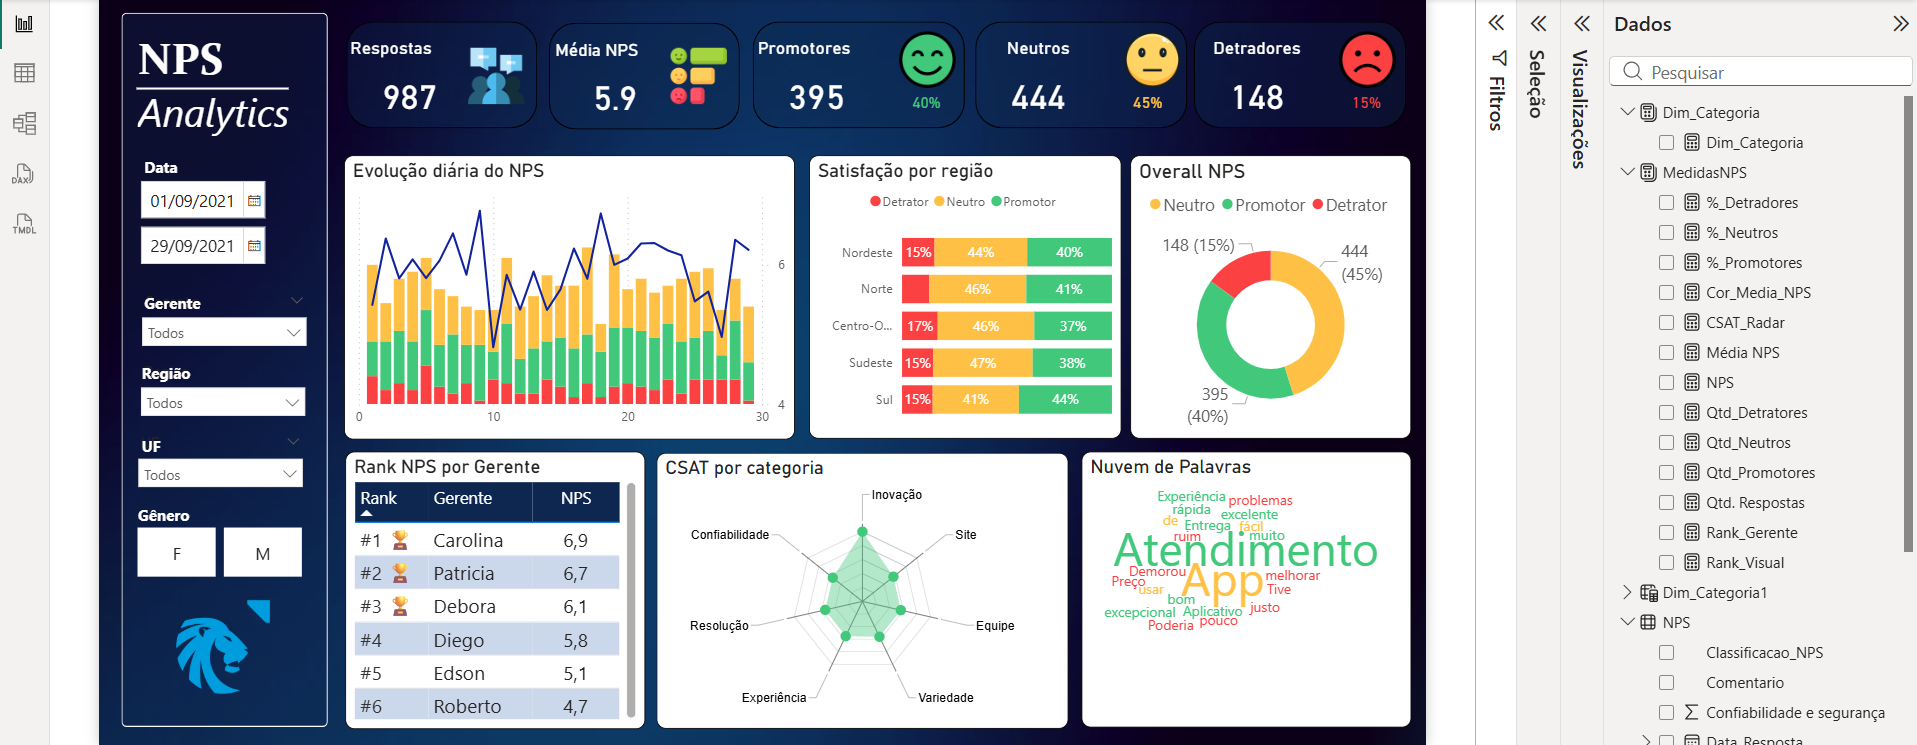

The page's visual inventory and layout, read from the dashboard file:
{"tool":"powerbi","page":{"name":"NPS","canvas":[1280,720],"ordinal":0},"visuals":[{"type":"shape","box":[1056.4,22.3,204.7,103],"z":0},{"type":"shape","box":[21.2,13.7,199.1,689.3],"z":1000},{"type":"image","box":[20.6,547.5,199,155.1],"z":2000},{"type":"WordCloud1447959067750","title":"Nuvem de Palavras","fields":{"Category":["NPS.Comentario"]},"box":[947.8,436.5,318.1,266.6],"z":3000},{"type":"donutChart","title":"Overall NPS","fields":{"Category":["NPS.Classificacao_NPS"],"Y":["MedidasNPS.Qtd. Respostas"]},"box":[995.3,150.8,271.4,273.9],"z":4000},{"type":"hundredPercentStackedBarChart","title":"Satisfação por região","fields":{"Category":["NPS.Regiao"],"Y":["MedidasNPS.Qtd. Respostas"],"Series":["NPS.Classificacao_NPS"]},"box":[685.3,150.8,301.6,273.9],"z":5000},{"type":"advancedSlicerVisual","fields":{"Values":["NPS.Genero"]},"box":[32.2,506.1,170,57.9],"z":6000},{"type":"textbox","box":[32.2,482.9,70.8,38.6],"z":7000},{"type":"RadarChart1446119667547","title":"CSAT por categoria","fields":{"Category":["Dim_Categoria1.Categoria"],"Y":["MedidasNPS.CSAT_Radar"]},"box":[538.3,437.8,397.9,266.6],"z":8000},{"type":"advanceCardE03760C5AB684758B56AA29F9E6C257B","title":"Detradores","fields":{"mainMeasure":["MedidasNPS.Qtd_Detratores"]},"box":[1055.9,37.6,124.4,97],"z":9000},{"type":"advanceCardE03760C5AB684758B56AA29F9E6C257B","fields":{"mainMeasure":["MedidasNPS.%_Detradores"]},"box":[1174.9,76.4,96.6,48.9],"z":10000},{"type":"image","box":[1173.6,31.3,100.4,54.1],"z":11000},{"type":"shape","box":[631.4,22.3,204.7,103],"z":12000},{"type":"advanceCardE03760C5AB684758B56AA29F9E6C257B","title":"Promotores","fields":{"mainMeasure":["MedidasNPS.Qtd_Promotores"]},"box":[631,37.6,124.4,97],"z":13000},{"type":"advanceCardE03760C5AB684758B56AA29F9E6C257B","fields":{"mainMeasure":["MedidasNPS.%_Promotores"]},"box":[749.9,76.4,96.6,48.9],"z":14000},{"type":"image","box":[748.6,31.3,100.4,54.1],"z":15000},{"type":"shape","box":[845.2,22.3,204.7,103],"z":16000},{"type":"advanceCardE03760C5AB684758B56AA29F9E6C257B","title":"Neutros","fields":{"mainMeasure":["MedidasNPS.Qtd_Neutros"]},"box":[844.7,37.6,124.4,97],"z":17000},{"type":"advanceCardE03760C5AB684758B56AA29F9E6C257B","fields":{"mainMeasure":["MedidasNPS.%_Neutros"]},"box":[963.7,76.4,96.6,48.9],"z":18000},{"type":"image","box":[966.5,31.6,100.4,54.1],"z":19000},{"type":"tableEx","title":"Rank NPS por Gerente","fields":{"Values":["MedidasNPS.Rank_Visual","NPS.Gerente","MedidasNPS.Média NPS"]},"box":[238.2,436.5,289.7,267.8],"z":20000},{"type":"lineStackedColumnComboChart","title":"Evolução diária do NPS","fields":{"Category":["NPS.Data_Resposta.Variation.Hierarquia de datas.Dia"],"Y2":["MedidasNPS.Média NPS"],"Y":["MedidasNPS.Qtd_Detratores","MedidasNPS.Qtd_Promotores","MedidasNPS.Qtd_Neutros"]},"box":[236.9,150.7,435.3,274.3],"z":21000},{"type":"shape","box":[238.5,21.9,184.1,103],"z":22000},{"type":"advanceCardE03760C5AB684758B56AA29F9E6C257B","title":"Respostas","fields":{"mainMeasure":["MedidasNPS.Qtd. Respostas"]},"box":[237.6,37.8,124.4,97],"z":23000},{"type":"image","box":[332.5,46.6,100.4,54.1],"z":24000},{"type":"shape","box":[434.6,22.6,184.1,103],"z":25000},{"type":"advanceCardE03760C5AB684758B56AA29F9E6C257B","title":"Média NPS","fields":{"mainMeasure":["MedidasNPS.Média NPS"]},"box":[435.5,38.9,124.9,96.6],"z":26000},{"type":"image","box":[528.6,47.3,100.4,54.1],"z":27000},{"type":"textbox","box":[32.2,27,188,135.2],"z":27001},{"type":"shape","box":[36.1,27,146.8,119.8],"z":27002},{"type":"slicer","title":"UF","fields":{"Values":["NPS.UF"]},"box":[28.3,414.6,179,68.2],"z":27003},{"type":"textbox","box":[36.1,415.9,70.8,38.6],"z":27004},{"type":"slicer","fields":{"Values":["NPS.Data_Resposta"]},"box":[28.3,164.8,179,97.9],"z":27005},{"type":"textbox","box":[38.6,146.8,70.8,38.6],"z":27006},{"type":"slicer","title":"UF","fields":{"Values":["NPS.Regiao"]},"box":[29.6,346.4,179,68.2],"z":27007},{"type":"textbox","box":[36.1,346.4,70.8,38.6],"z":27008},{"type":"slicer","title":"UF","fields":{"Values":["NPS.Gerente"]},"box":[30.9,278.1,179,68.2],"z":27009},{"type":"textbox","box":[38.6,278.1,70.8,38.6],"z":27010}]}

Visuals, with their boxes in screenshot pixels (x1, y1, x2, y2):
shape: detection(1191, 28, 1400, 133)
shape: detection(136, 19, 339, 721)
image: detection(136, 563, 339, 721)
"Nuvem de Palavras" WordCloud1447959067750: detection(1080, 450, 1405, 721)
"Overall NPS" donutChart: detection(1129, 159, 1405, 438)
"Satisfação por região" hundredPercentStackedBarChart: detection(813, 159, 1120, 438)
advancedSlicerVisual - NPS.Genero: detection(148, 521, 321, 580)
textbox: detection(148, 497, 220, 536)
"CSAT por categoria" RadarChart1446119667547: detection(663, 451, 1069, 723)
"Detradores" advanceCardE03760C5AB684758B56AA29F9E6C257B: detection(1191, 43, 1317, 142)
advanceCardE03760C5AB684758B56AA29F9E6C257B - MedidasNPS.%_Detradores: detection(1312, 83, 1410, 133)
image: detection(1311, 37, 1413, 92)
shape: detection(758, 28, 967, 133)
"Promotores" advanceCardE03760C5AB684758B56AA29F9E6C257B: detection(758, 43, 884, 142)
advanceCardE03760C5AB684758B56AA29F9E6C257B - MedidasNPS.%_Promotores: detection(879, 83, 977, 133)
image: detection(878, 37, 980, 92)
shape: detection(976, 28, 1184, 133)
"Neutros" advanceCardE03760C5AB684758B56AA29F9E6C257B: detection(975, 43, 1102, 142)
advanceCardE03760C5AB684758B56AA29F9E6C257B - MedidasNPS.%_Neutros: detection(1097, 83, 1195, 133)
image: detection(1100, 37, 1202, 92)
"Rank NPS por Gerente" tableEx: detection(358, 450, 653, 723)
"Evolução diária do NPS" lineStackedColumnComboChart: detection(356, 159, 800, 438)
shape: detection(358, 27, 545, 132)
"Respostas" advanceCardE03760C5AB684758B56AA29F9E6C257B: detection(357, 44, 484, 142)
image: detection(454, 52, 556, 108)
shape: detection(558, 28, 745, 133)
"Média NPS" advanceCardE03760C5AB684758B56AA29F9E6C257B: detection(559, 45, 686, 143)
image: detection(653, 53, 756, 108)
textbox: detection(148, 32, 339, 170)
shape: detection(152, 32, 301, 155)
"UF" slicer: detection(144, 427, 326, 497)
textbox: detection(152, 429, 224, 468)
slicer - NPS.Data_Resposta: detection(144, 173, 326, 273)
textbox: detection(154, 155, 226, 194)
"UF" slicer: detection(145, 358, 327, 427)
textbox: detection(152, 358, 224, 397)
"UF" slicer: detection(146, 288, 329, 358)
textbox: detection(154, 288, 226, 328)
